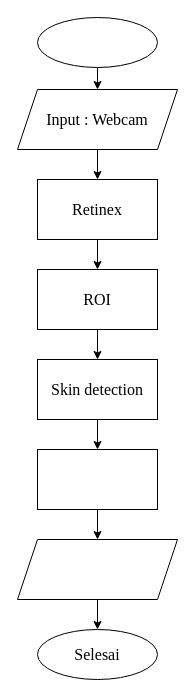
This 195x697 diagram has some shape labels left out. Here are the shapes that lost their labels. From the top down, the centre of each, then its label:
At point 97,42: "Mulai".
At point 97,479: "CNN model".
At point 97,569: "Output : Pengenalan gestur".
